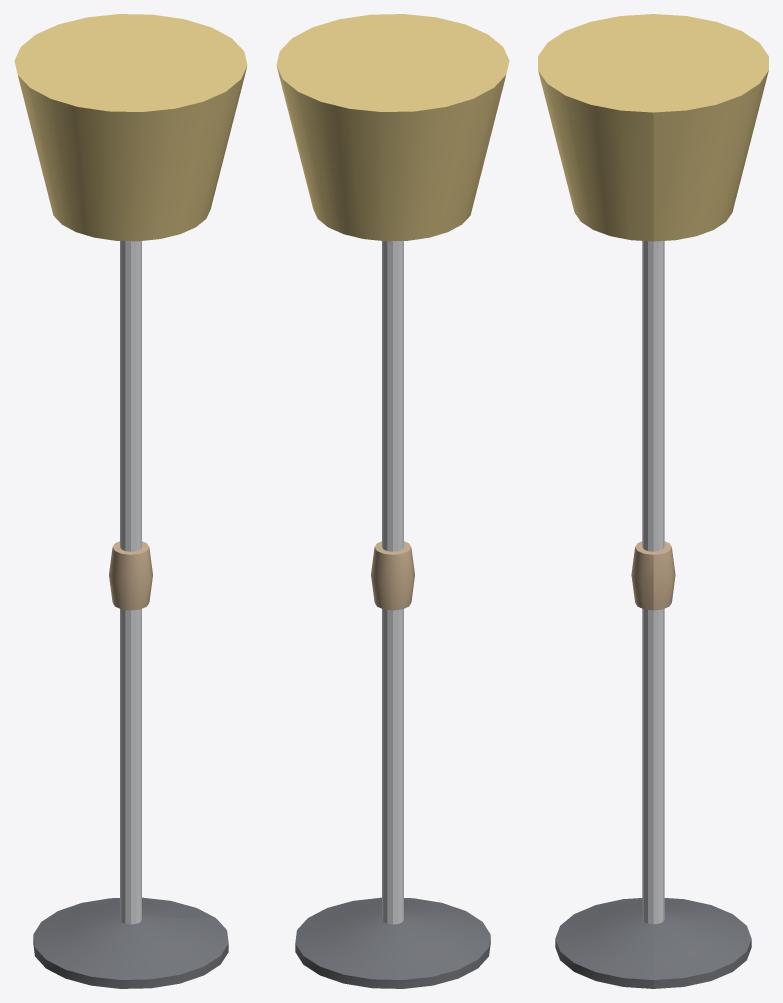
File: care-home-and-day-room-floor-lamp-d9eec340.glb
The picture shows the model from 3 angles, left to right: view 1: azimuth 30°, elevation 25°; view 2: azimuth 150°, elevation 25°; view 3: azimuth 270°, elevation 25°; orthographic projection.
Visible parts, largest first — view 1: floor-lamp; view 2: floor-lamp; view 3: floor-lamp.
Part boxes in pixels (x1,y1,x2,y2): floor-lamp: (14,14,247,988); floor-lamp: (276,14,509,988); floor-lamp: (538,14,768,988).
Size of the model in its own units: 0.38 by 1.59 by 0.3761.
